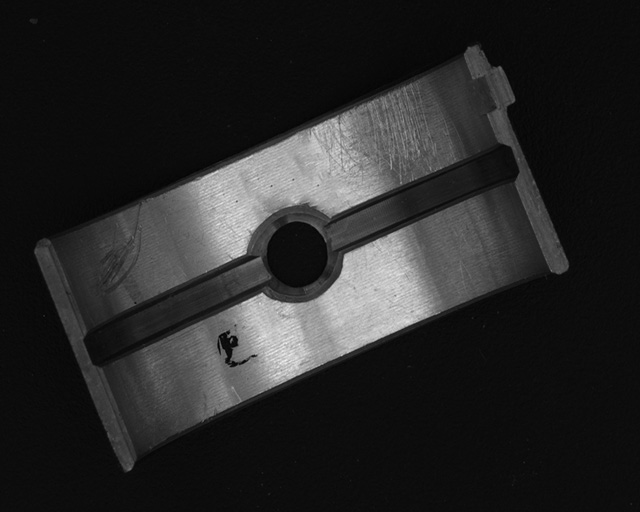blot: (216, 329, 259, 370)
gap: (82, 256, 271, 368), (327, 143, 524, 250)
hole: (255, 213, 338, 299)
nick: (93, 201, 143, 300)
scratch: (306, 78, 437, 184)
